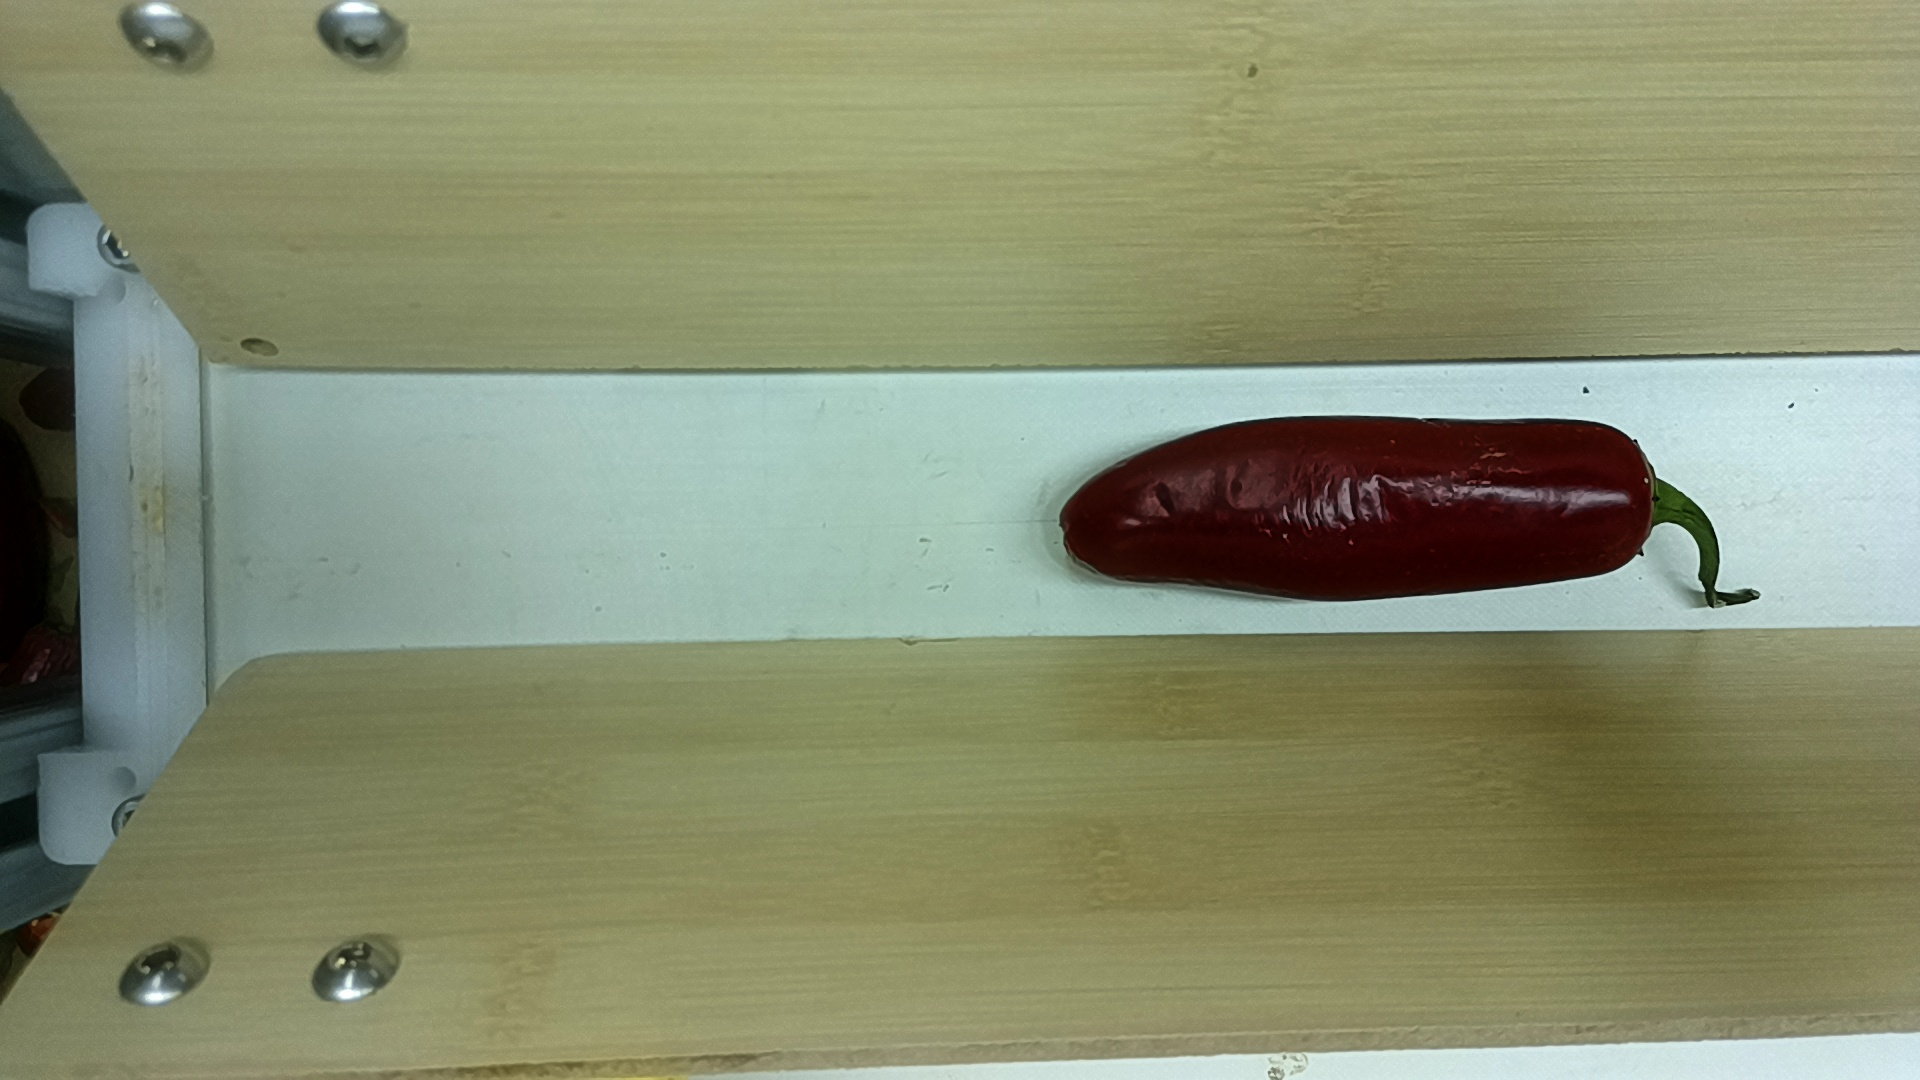Cut Point: (1594, 417, 1684, 580)
